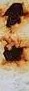Corrosion: (1, 34, 29, 71), (1, 1, 29, 34)
